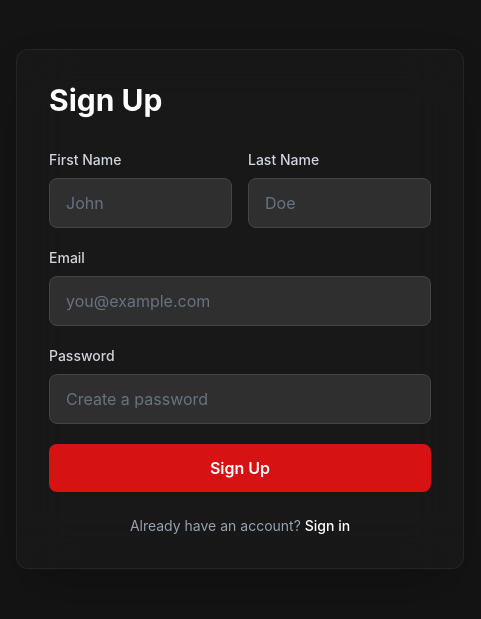
Test: SignupForm › shows an account creation error when registration fails
Type "ada@x.io" into the field with placeholder "you@example.com" at (240, 301), box [49,276,431,326]
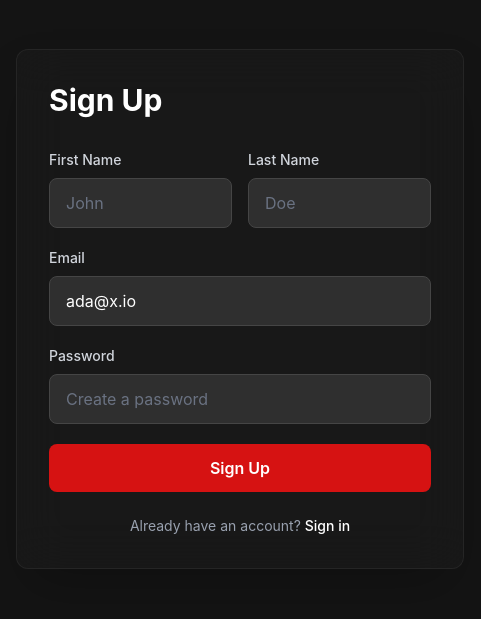
Type "secret" into the password field with placeholder "Create a password" at (240, 399), box [49,374,431,424]
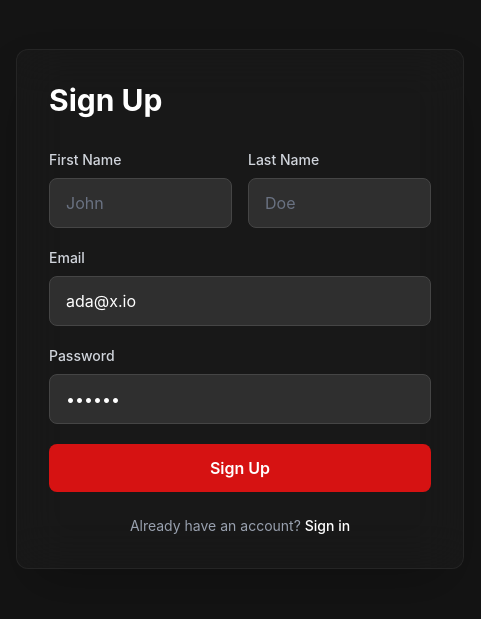
Submit the form "Sign Up", box [49,150,431,492]
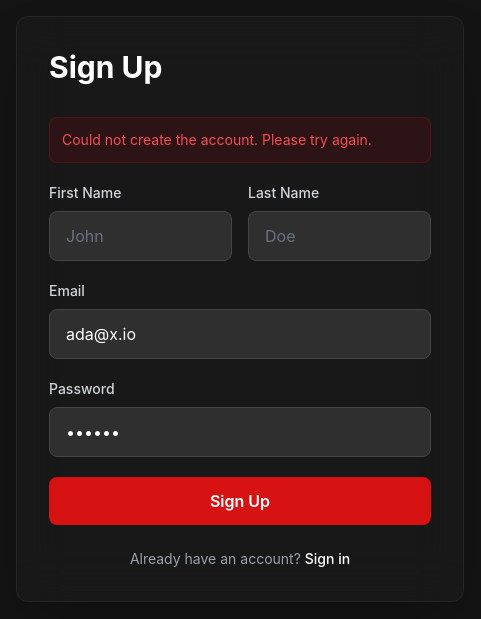
Expected: the text "Could not create the account. Please try again." is shown, [49,117,431,163]
